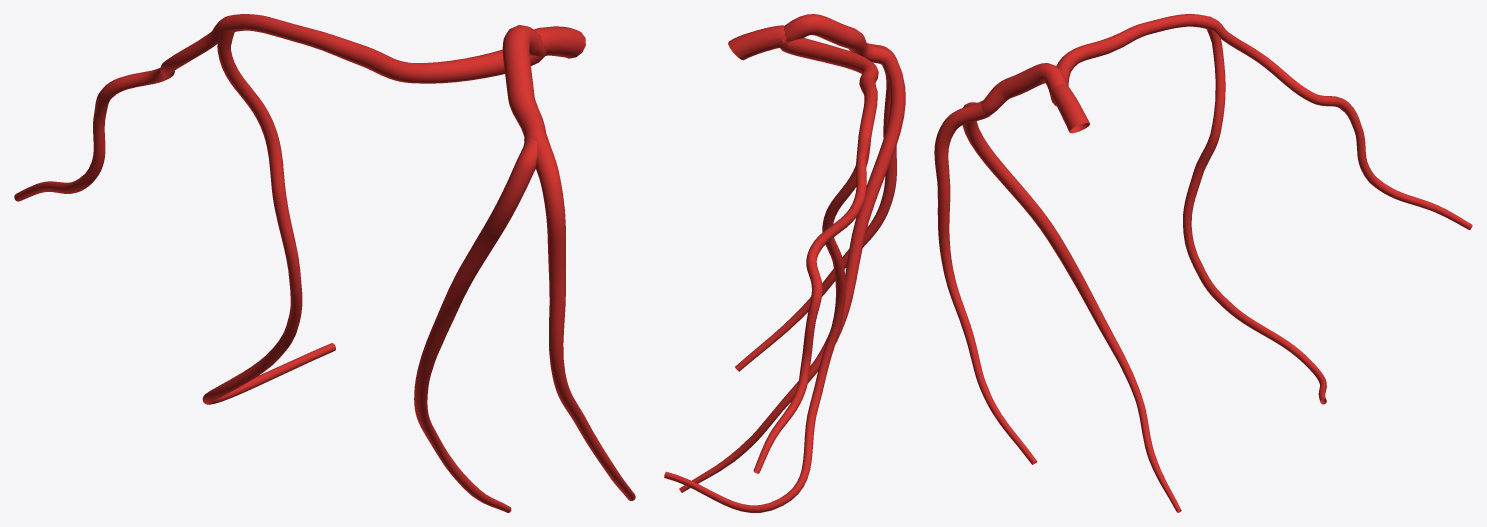
Rendered from circulatorio-anterior-temporal-branch-r.glb.
The picture shows the model from 3 angles, left to right: view 1: azimuth 30°, elevation 25°; view 2: azimuth 150°, elevation 25°; view 3: azimuth 270°, elevation 25°; orthographic projection. The views are drawn at different scales.
Visible parts, largest first — view 1: Anterior temporal branch.r; view 2: Anterior temporal branch.r; view 3: Anterior temporal branch.r.
Boxes of the visible parts, <box> form: Anterior temporal branch.r: <box>14,14,635,512</box>; Anterior temporal branch.r: <box>664,14,905,512</box>; Anterior temporal branch.r: <box>934,14,1472,512</box>.
Size of the model in its own units: 0.022 by 0.0365 by 0.0424.
